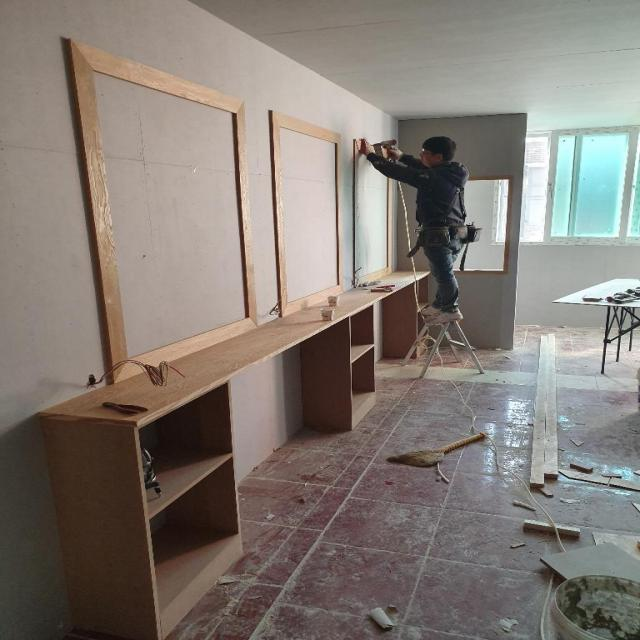wood: (530, 335, 548, 489), (544, 334, 556, 481)
